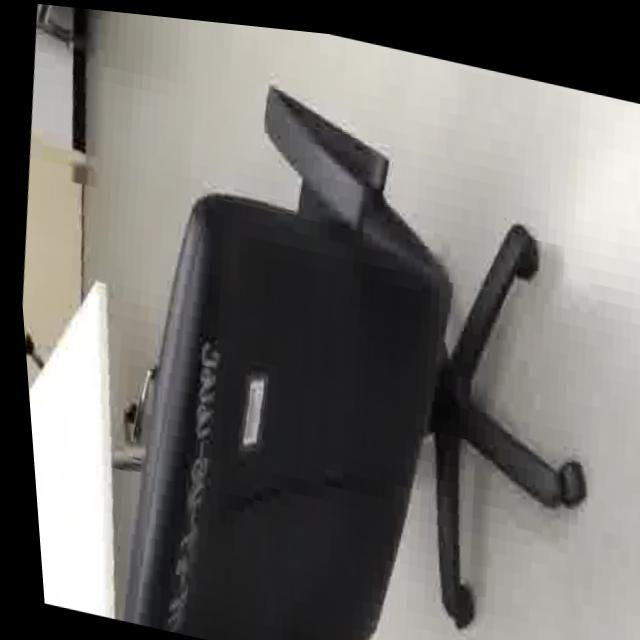chair: (42, 11, 640, 640)
